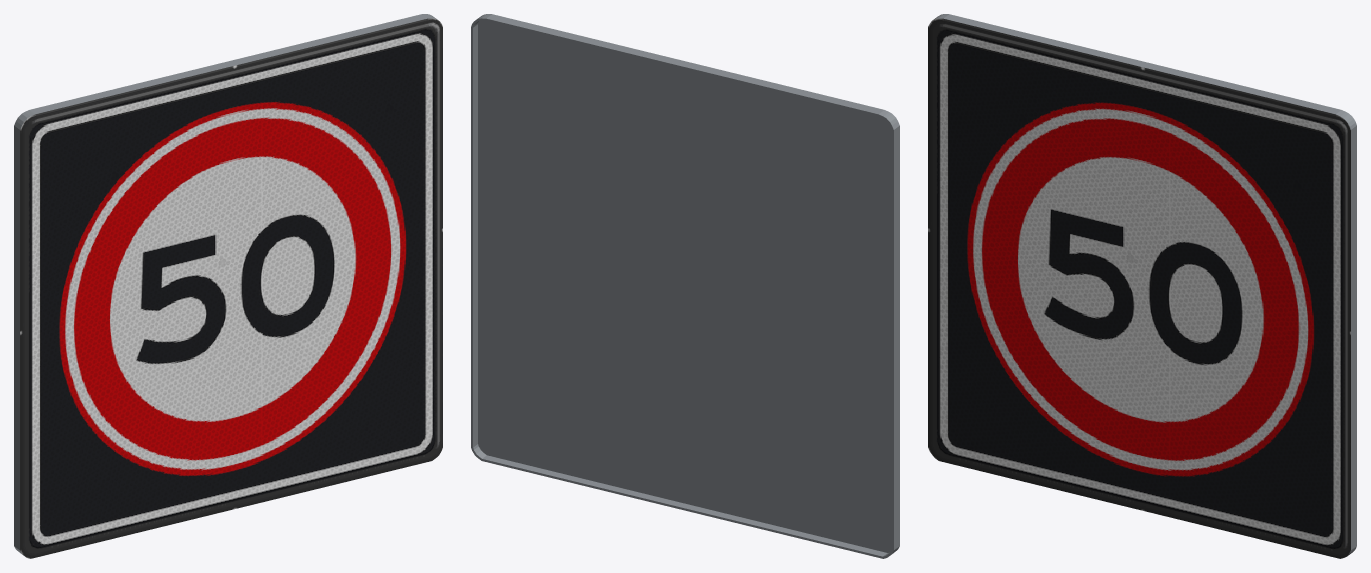
The picture shows the model from 3 angles, left to right: view 1: azimuth 30°, elevation 25°; view 2: azimuth 150°, elevation 25°; view 3: azimuth 330°, elevation 25°; orthographic projection.
Visible parts, largest first — view 1: cat_9633107d44484406; view 2: cat_9633107d44484406; view 3: cat_9633107d44484406.
Part boxes in pixels (x1,y1,x2,y2): cat_9633107d44484406: (14, 14, 442, 558); cat_9633107d44484406: (471, 14, 899, 558); cat_9633107d44484406: (928, 14, 1356, 558).
Bounding box in the file's own units: 0.6 × 0.015 × 0.6014.
2 materials, 1 textured.
